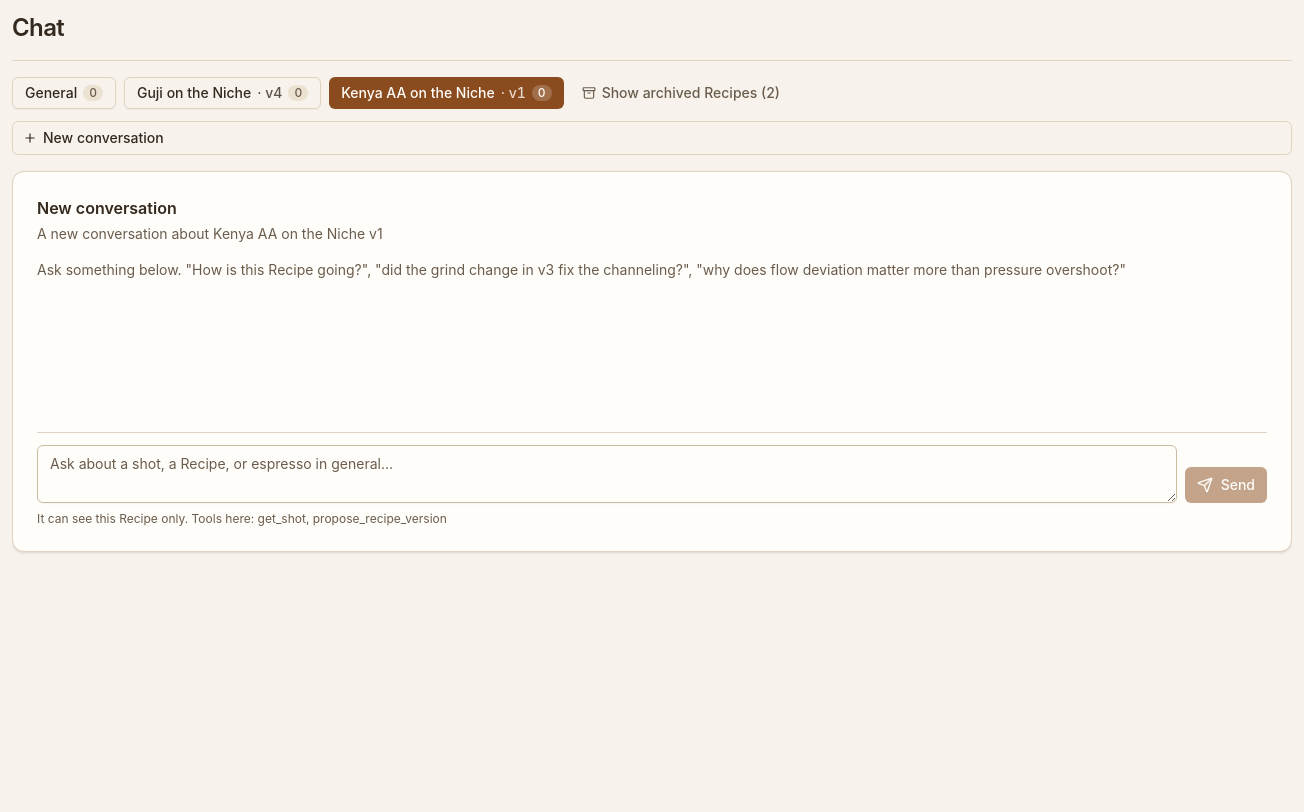
Test: ChatPage folders › keeps archived Recipes behind a toggle, as a badge per Recipe and not one list
Expected: the button "Finished Ethiopia" is not shown
Expected: the button "Old decaf" is not shown
Click the button "Show archived Recipes (2)": point(681, 93) [572, 77, 790, 109]
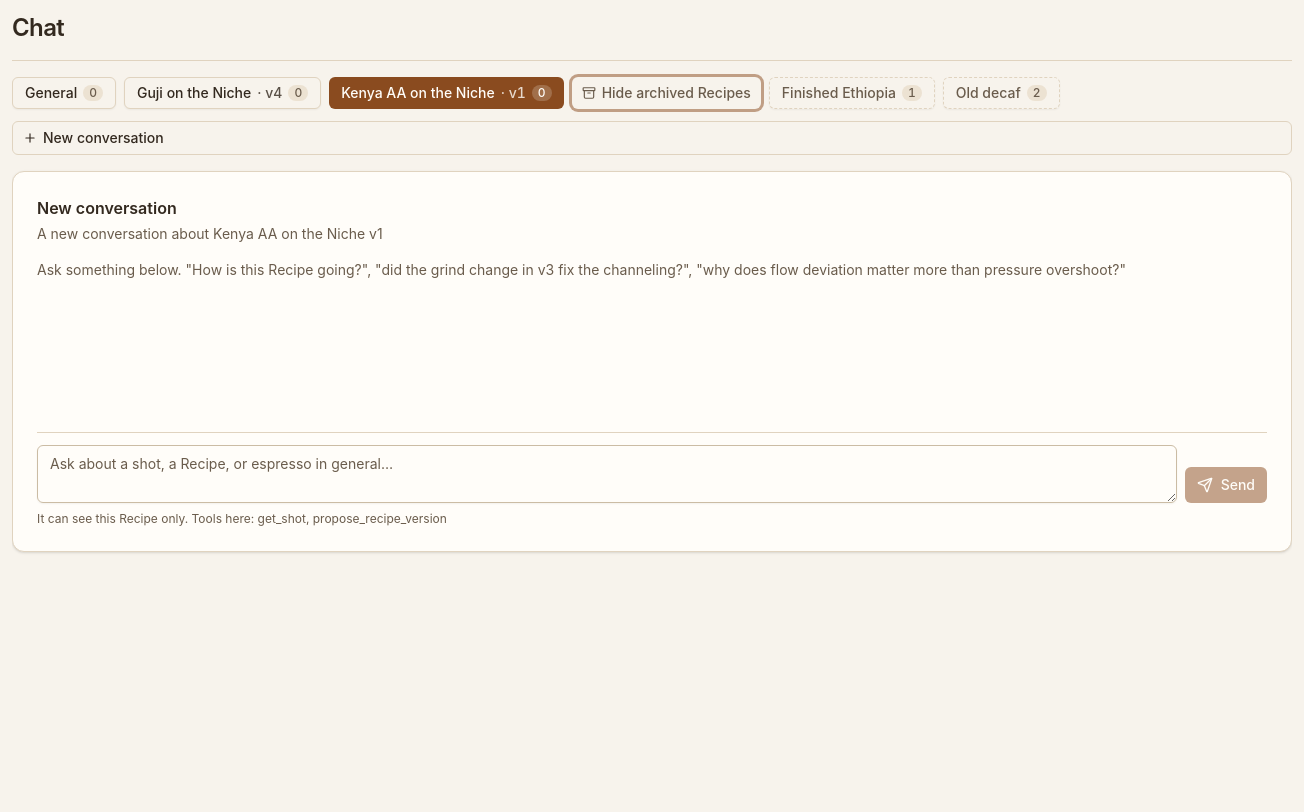
Result: the button "Old decaf 2" is shown
Click the button "Old decaf 2": point(1001, 93) [943, 77, 1060, 109]
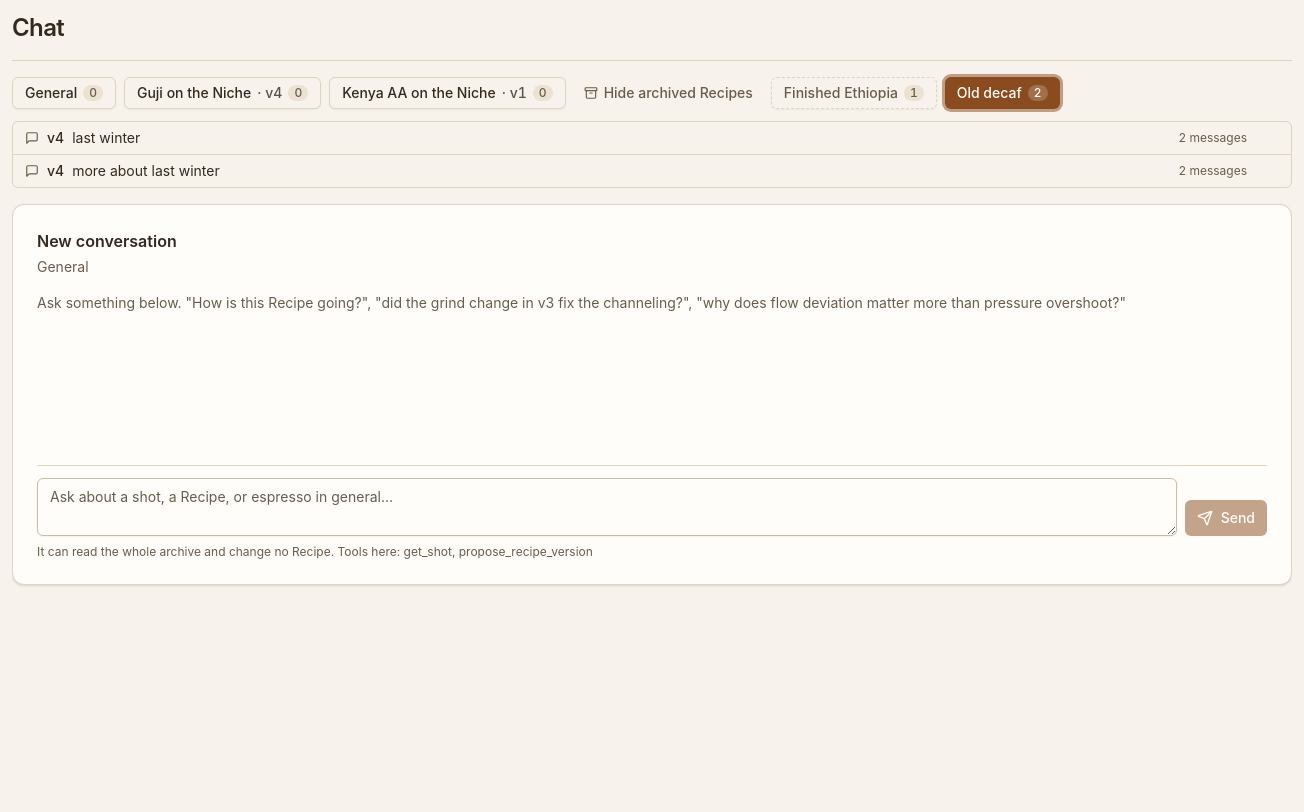
Click the button "Finished Ethiopia 1": point(854, 93) [771, 77, 937, 109]
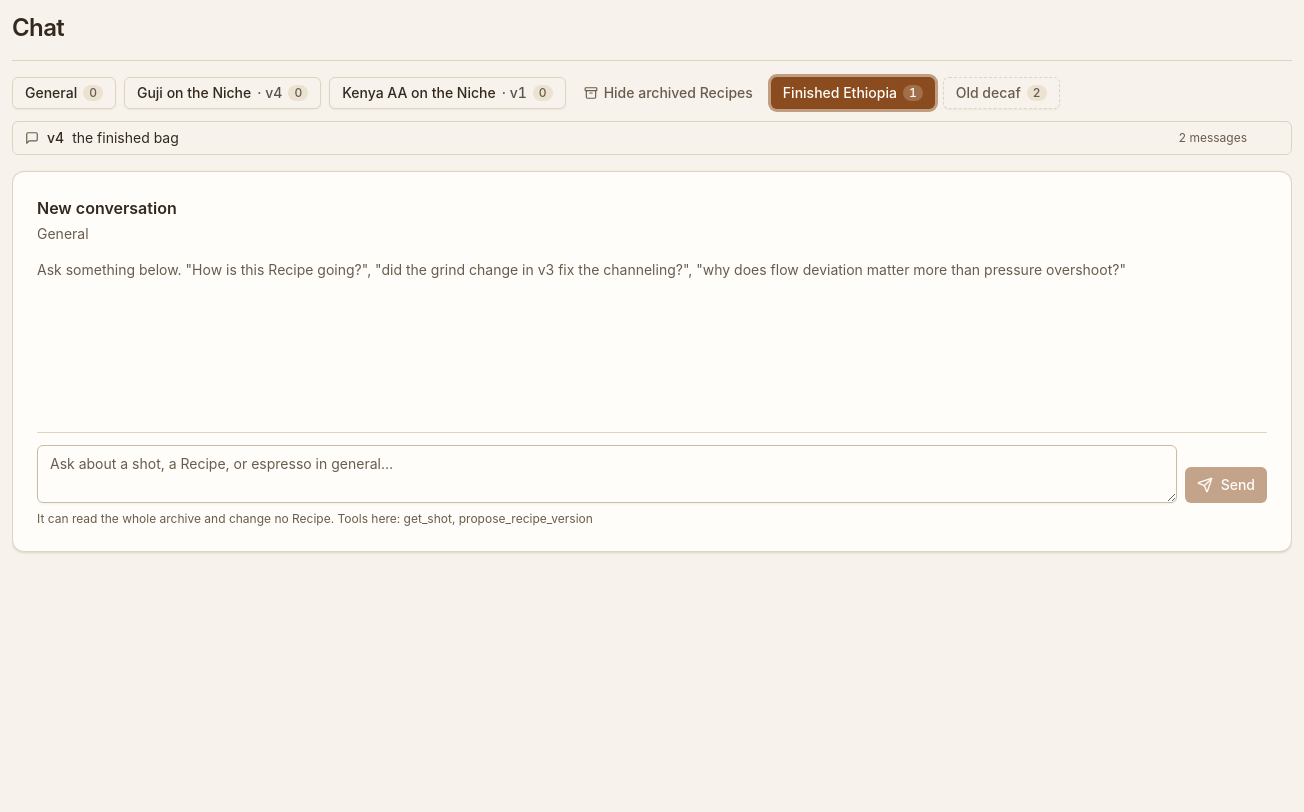
Click the button "Hide archived Recipes": point(668, 93) [574, 77, 763, 109]
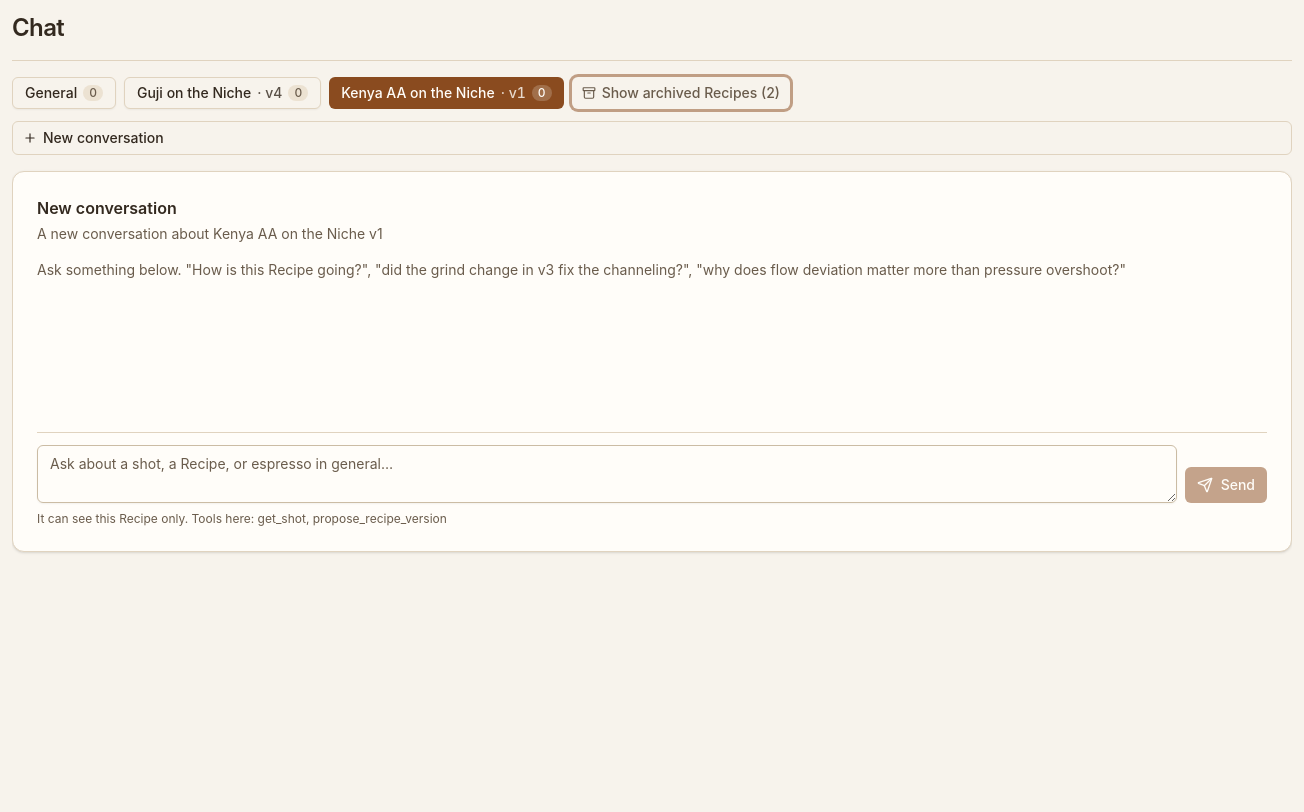
Result: the button "Finished Ethiopia" is gone
